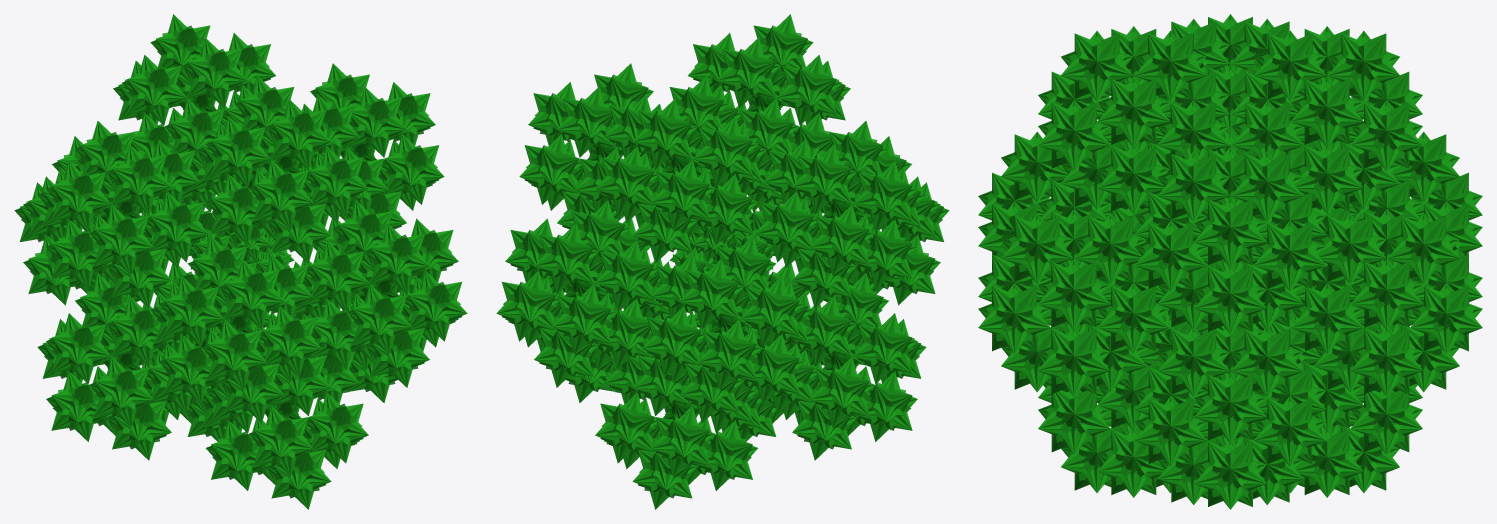
Rendered from fractalgreattriakisicosahedron2.glb.
The picture shows the model from 3 angles, left to right: view 1: azimuth 30°, elevation 25°; view 2: azimuth 150°, elevation 25°; view 3: azimuth 270°, elevation 25°; orthographic projection. The views are drawn at different scales.
Bounding box in the file's own units: 10.31 × 10.31 × 10.31.
